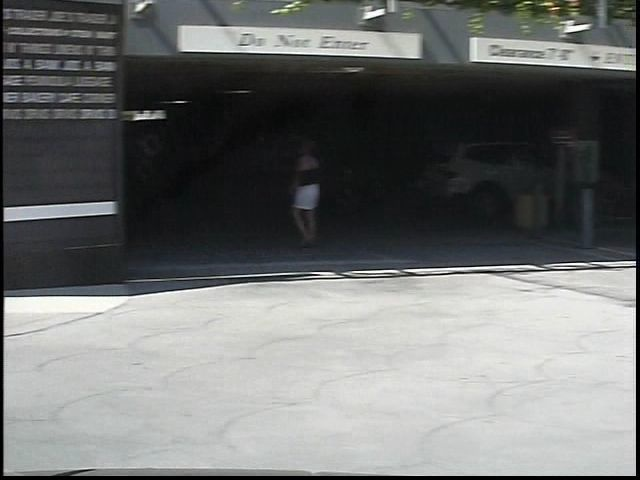person: (266, 134, 315, 256)
